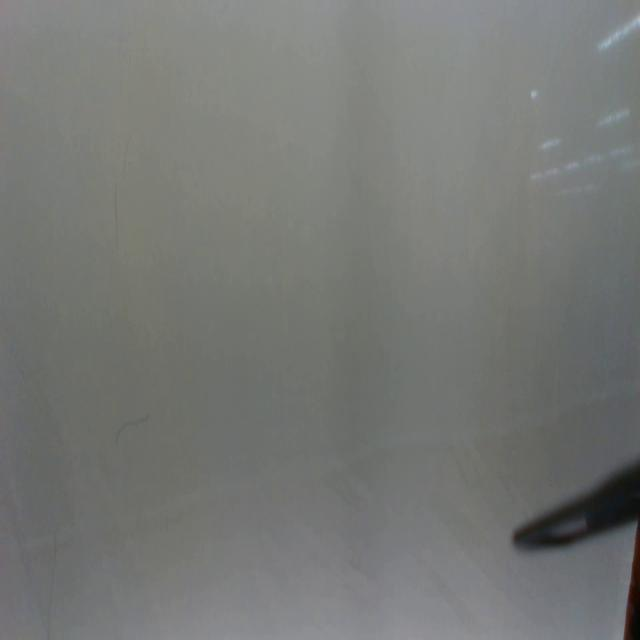crease: (44, 534, 60, 640), (121, 126, 136, 180), (112, 180, 120, 259)
